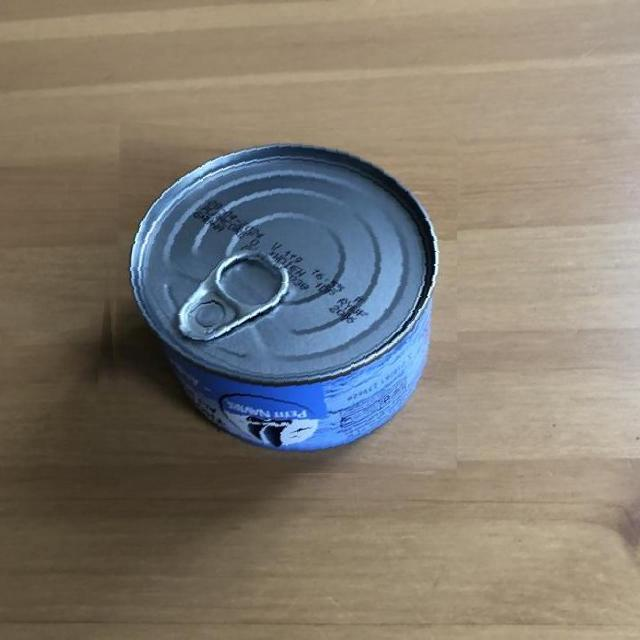recyclable: (98, 128, 457, 476)
